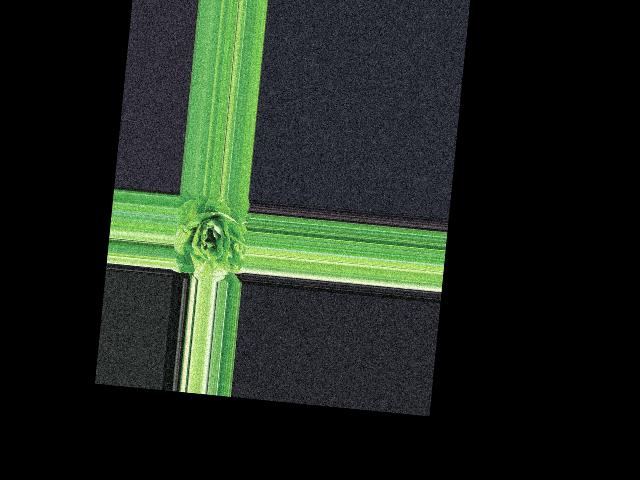lettuce: (173, 194, 251, 280)
